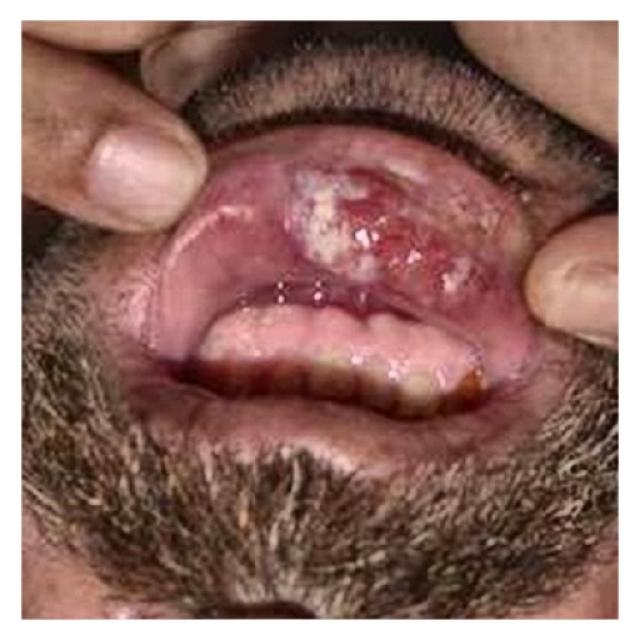cancer-detection: (274, 163, 515, 319)
processing_area: (135, 139, 532, 427)
